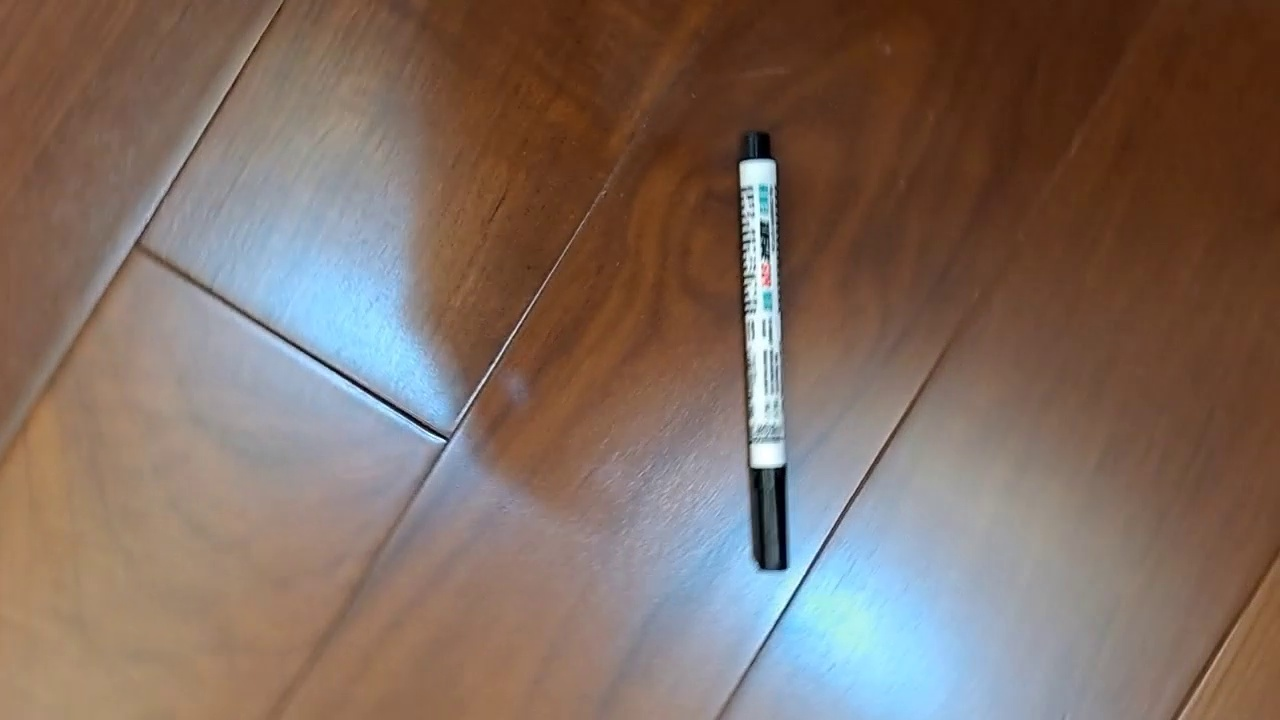pen: (737, 129, 790, 572)
